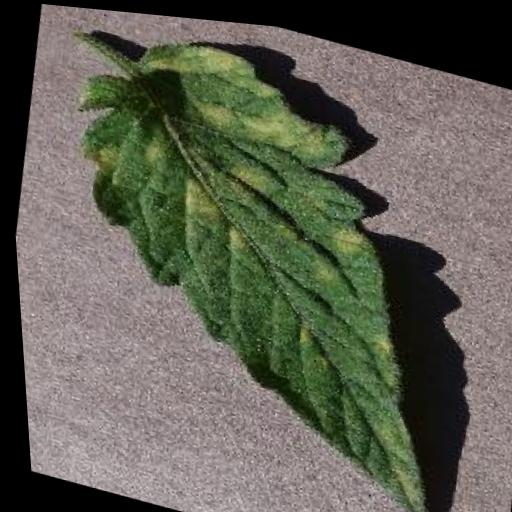Leaf Mold: (18, 6, 493, 512)
